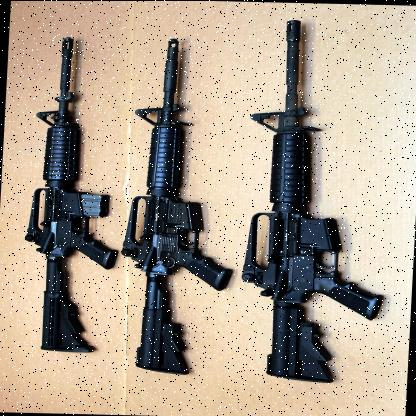rifle: (230, 19, 394, 384), (116, 37, 241, 376), (15, 36, 125, 352)
